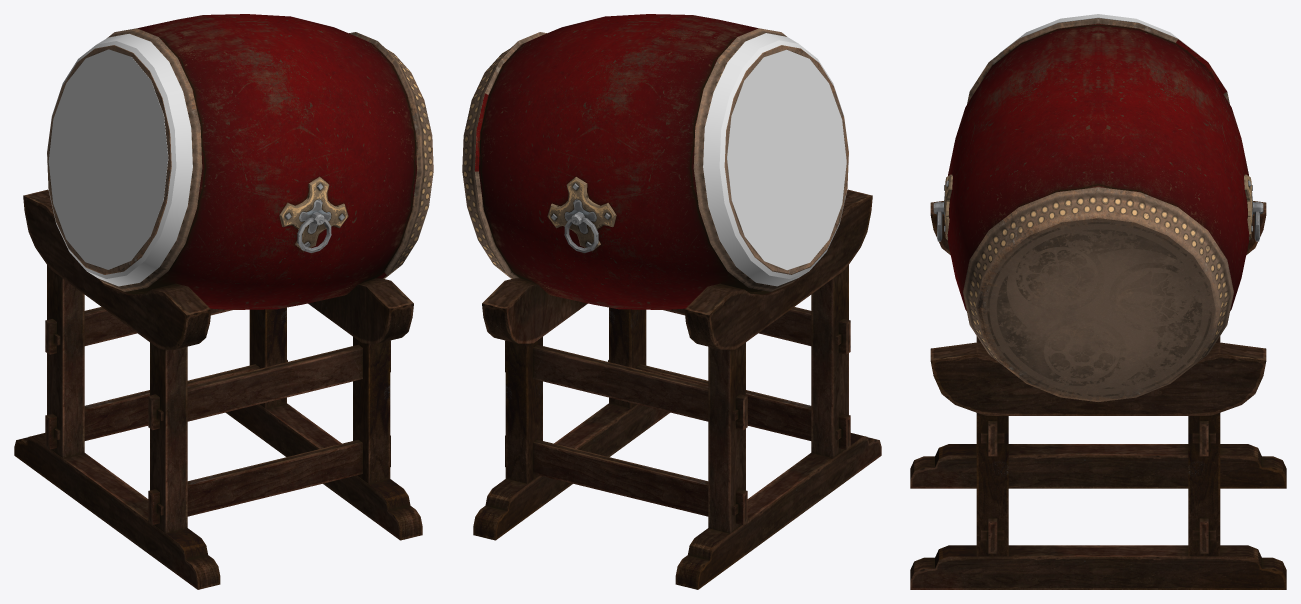
File: Taiko.fbx
3 views of the same model, side by side, from view 1: azimuth 30°, elevation 25°; view 2: azimuth 150°, elevation 25°; view 3: azimuth 270°, elevation 25° (orthographic). The views are drawn at different scales.
Parts seen in each view (by area): view 1: Taiko, Center, Side; view 2: Taiko, Center, Side; view 3: Taiko, Side.
Part boxes in pixels (x1,y1,x2,y2): Taiko: (14, 14, 433, 589); Center: (48, 49, 168, 269); Side: (47, 33, 192, 286); Taiko: (462, 14, 881, 589); Center: (727, 49, 846, 270); Side: (703, 33, 848, 286); Taiko: (910, 18, 1286, 589); Side: (998, 14, 1198, 54).
Size of the model in its own units: 91.37 by 133 by 93.45.
